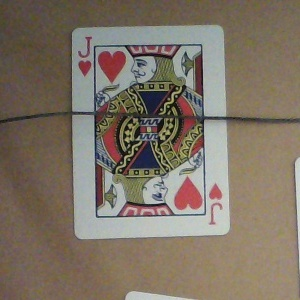card: (68, 25, 231, 239)
